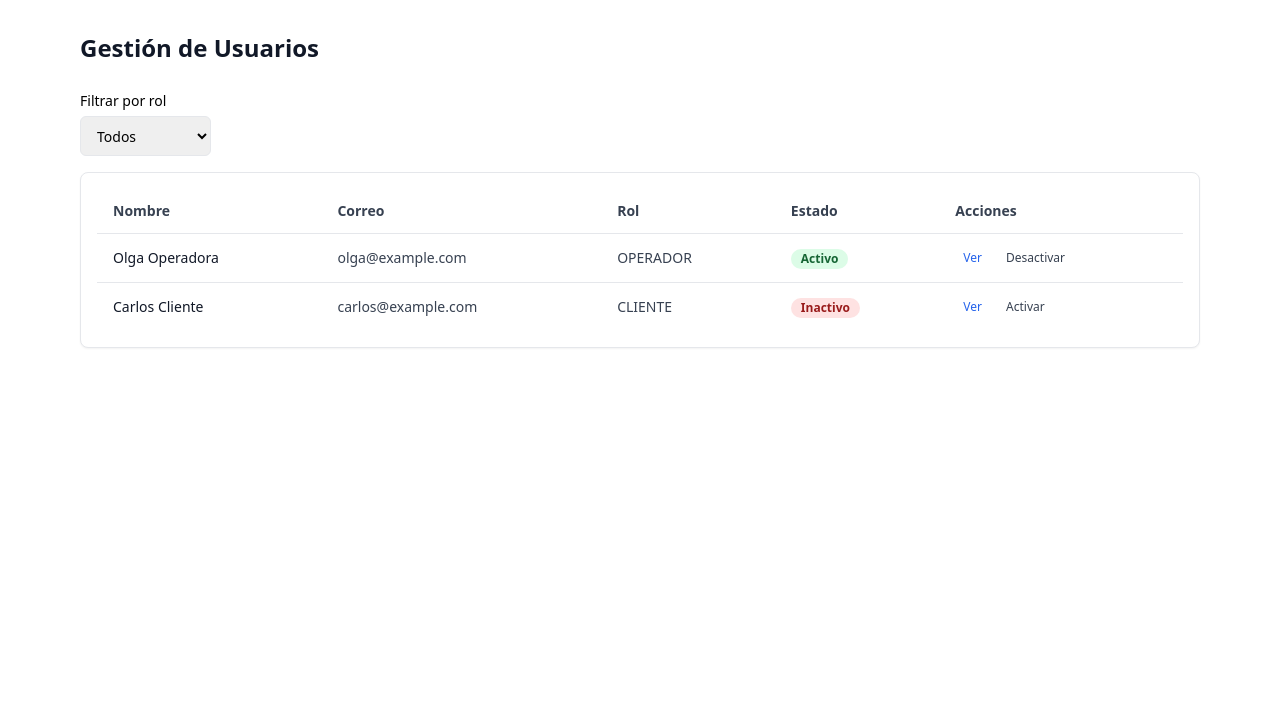
Test case: R28 — si la API responde 409 (auto-desactivación) se muestra un toast de error con el mensaje recibido › muestra el mensaje de error devuelto por la API sin modificar la tabla
The width and height of the screenshot is (1280, 720).
Click the button with aria-label "desactivar Olga Operadora": (1036, 258) [998, 246, 1073, 270]
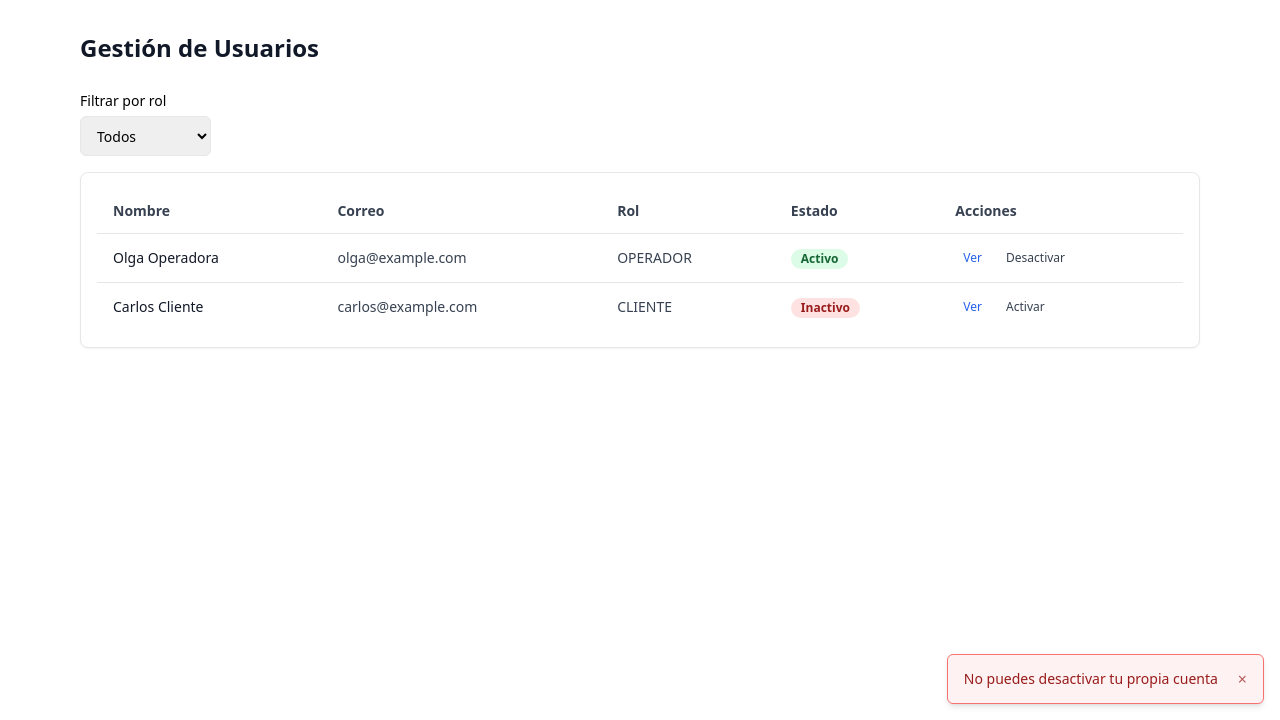
Expected: the message shows "No puedes desactivar tu propia cuenta", [964, 669, 1218, 688]
